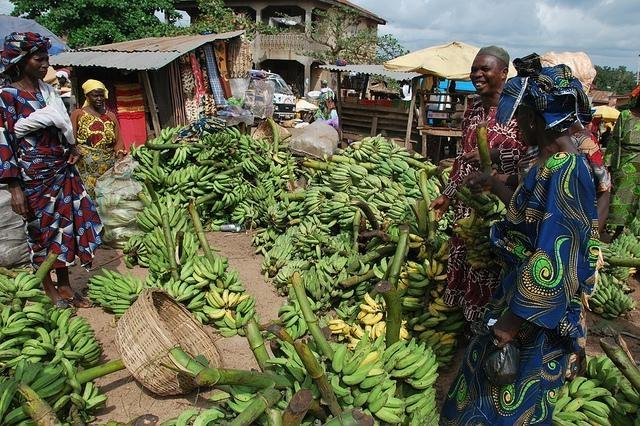truck: (262, 73, 296, 122)
